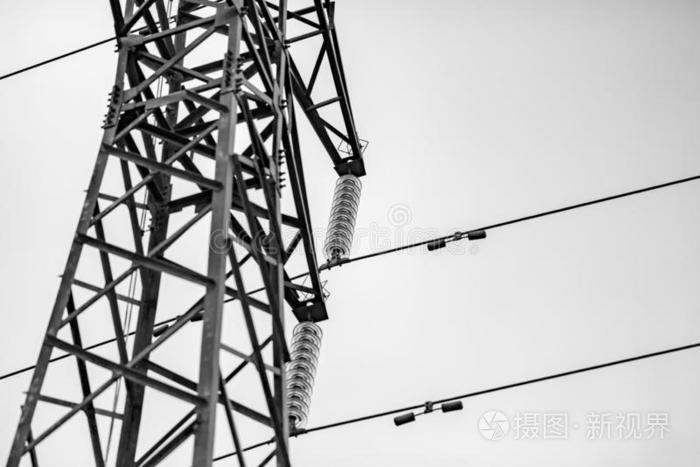insulator: (287, 319, 323, 423), (324, 174, 362, 263)
